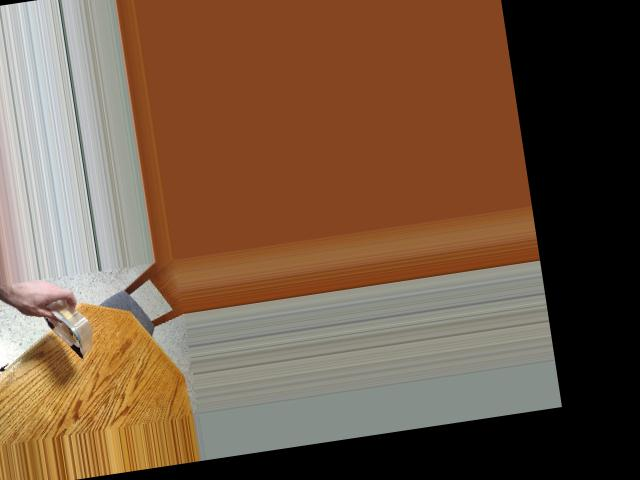cheese: (19, 287, 103, 360)
